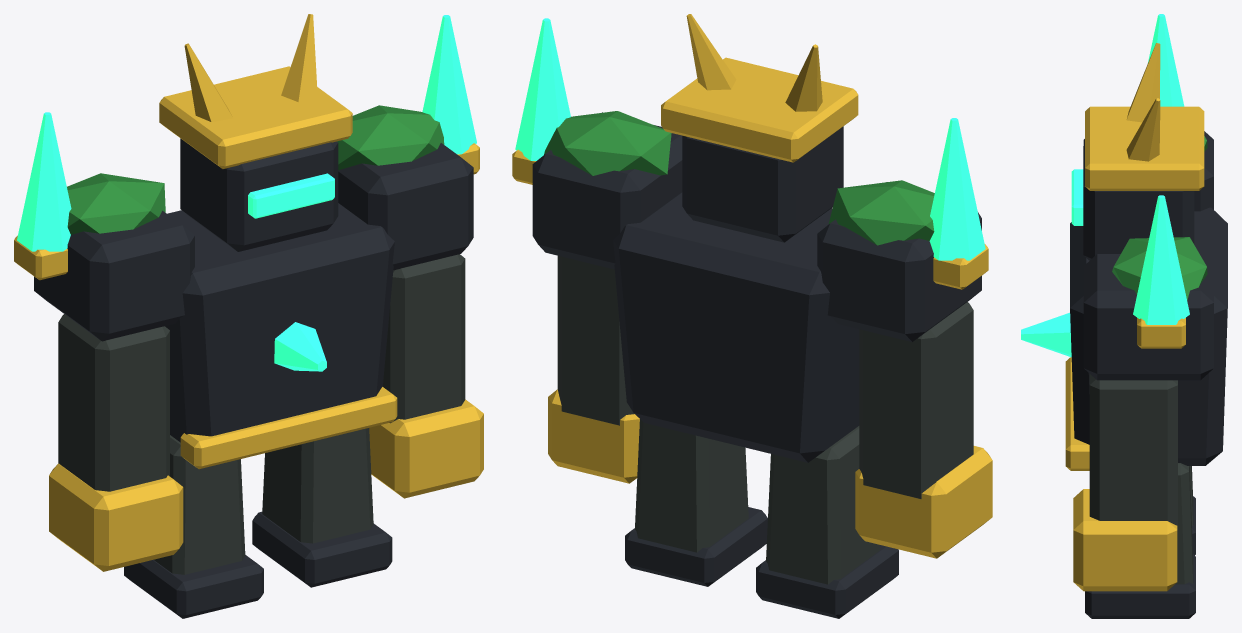
File: EM_Mob_AncientWarden.glb
The picture shows the model from 3 angles, left to right: view 1: azimuth 30°, elevation 25°; view 2: azimuth 150°, elevation 25°; view 3: azimuth 270°, elevation 25°; orthographic projection. The views are drawn at different scales.
Visible parts, largest first — view 1: AncientWarden__Body__StoneObsidian, AncientWarden__Arms__StoneDark, AncientWarden__Arms__StoneObsidian, AncientWarden__Arms__GoldMetal, AncientWarden__Legs__StoneDark, AncientWarden__Head__GoldMetal, AncientWarden__Legs__StoneObsidian, AncientWarden__Head__StoneObsidian, AncientWarden__Arms__MossLeaf, AncientWarden__Orbit__JadeGlow, AncientWarden__Body__GoldMetal, AncientWarden__Head__JadeGlow (+2 smaller); view 2: AncientWarden__Body__StoneObsidian, AncientWarden__Arms__StoneDark, AncientWarden__Legs__StoneDark, AncientWarden__Arms__StoneObsidian, AncientWarden__Head__GoldMetal, AncientWarden__Arms__GoldMetal, AncientWarden__Head__StoneObsidian, AncientWarden__Arms__MossLeaf, AncientWarden__Legs__StoneObsidian, AncientWarden__Orbit__JadeGlow, AncientWarden__Orbit__GoldMetal; view 3: AncientWarden__Arms__StoneDark, AncientWarden__Arms__StoneObsidian, AncientWarden__Head__GoldMetal, AncientWarden__Body__StoneObsidian, AncientWarden__Arms__GoldMetal, AncientWarden__Orbit__JadeGlow, AncientWarden__Head__StoneObsidian, AncientWarden__Legs__StoneObsidian, AncientWarden__Arms__MossLeaf, AncientWarden__Legs__StoneDark, AncientWarden__Body__JadeGlow, AncientWarden__Body__GoldMetal (+2 smaller).
Part boxes in pixels (x1,y1,x2,y2): AncientWarden__Body__StoneObsidian: [165, 203, 394, 442]; AncientWarden__Arms__StoneDark: [58, 254, 465, 491]; AncientWarden__Arms__StoneObsidian: [34, 143, 473, 341]; AncientWarden__Arms__GoldMetal: [49, 399, 483, 571]; AncientWarden__Legs__StoneDark: [154, 428, 373, 574]; AncientWarden__Head__GoldMetal: [159, 14, 352, 168]; AncientWarden__Legs__StoneObsidian: [124, 511, 392, 618]; AncientWarden__Head__StoneObsidian: [180, 138, 338, 251]; AncientWarden__Arms__MossLeaf: [67, 105, 444, 234]; AncientWarden__Orbit__JadeGlow: [17, 15, 476, 251]; AncientWarden__Body__GoldMetal: [180, 387, 397, 469]; AncientWarden__Head__JadeGlow: [248, 173, 334, 218]; AncientWarden__Body__StoneObsidian: [613, 192, 859, 462]; AncientWarden__Arms__StoneDark: [557, 255, 973, 498]; AncientWarden__Legs__StoneDark: [635, 419, 879, 584]; AncientWarden__Arms__StoneObsidian: [532, 112, 981, 341]; AncientWarden__Head__GoldMetal: [661, 14, 858, 162]; AncientWarden__Arms__GoldMetal: [548, 389, 992, 558]; AncientWarden__Head__StoneObsidian: [682, 126, 843, 242]; AncientWarden__Arms__MossLeaf: [544, 111, 934, 245]; AncientWarden__Legs__StoneObsidian: [625, 507, 898, 618]; AncientWarden__Orbit__JadeGlow: [515, 18, 985, 260]; AncientWarden__Orbit__GoldMetal: [512, 149, 988, 289]; AncientWarden__Arms__StoneDark: [1089, 374, 1177, 530]; AncientWarden__Arms__StoneObsidian: [1083, 131, 1213, 380]; AncientWarden__Head__GoldMetal: [1085, 43, 1204, 190]; AncientWarden__Body__StoneObsidian: [1070, 207, 1227, 465]; AncientWarden__Arms__GoldMetal: [1073, 489, 1177, 591]; AncientWarden__Orbit__JadeGlow: [1133, 14, 1189, 324]; AncientWarden__Head__StoneObsidian: [1083, 145, 1194, 260]; AncientWarden__Legs__StoneObsidian: [1085, 496, 1195, 618]; AncientWarden__Arms__MossLeaf: [1112, 136, 1207, 300]; AncientWarden__Legs__StoneDark: [1175, 463, 1193, 584]; AncientWarden__Body__JadeGlow: [1021, 312, 1071, 357]; AncientWarden__Body__GoldMetal: [1065, 357, 1089, 470].
Bounding box in the file's own units: 5.87 × 6.8 × 2.54.
